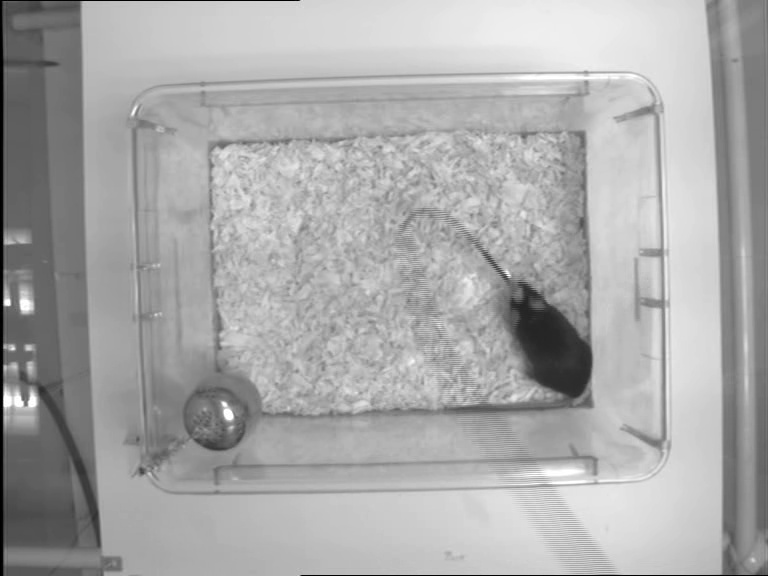mice: (441, 274, 591, 413)
